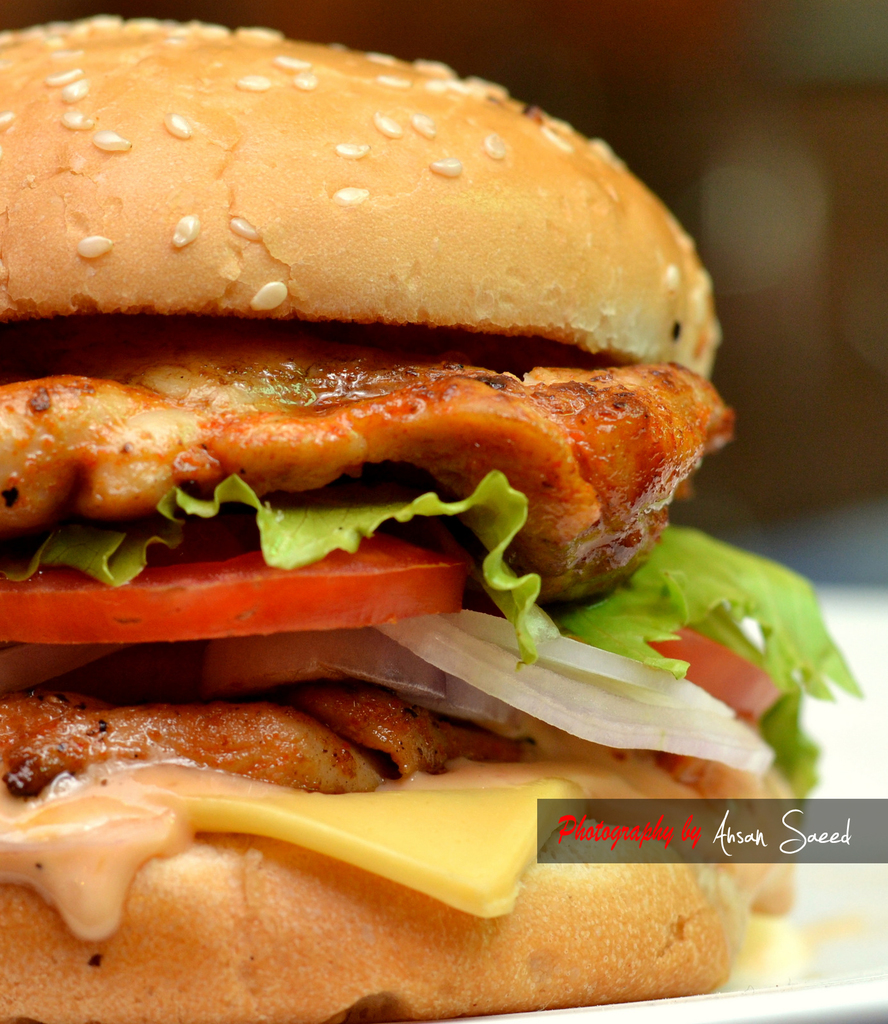Hamburger: (0, 12, 861, 1022)
